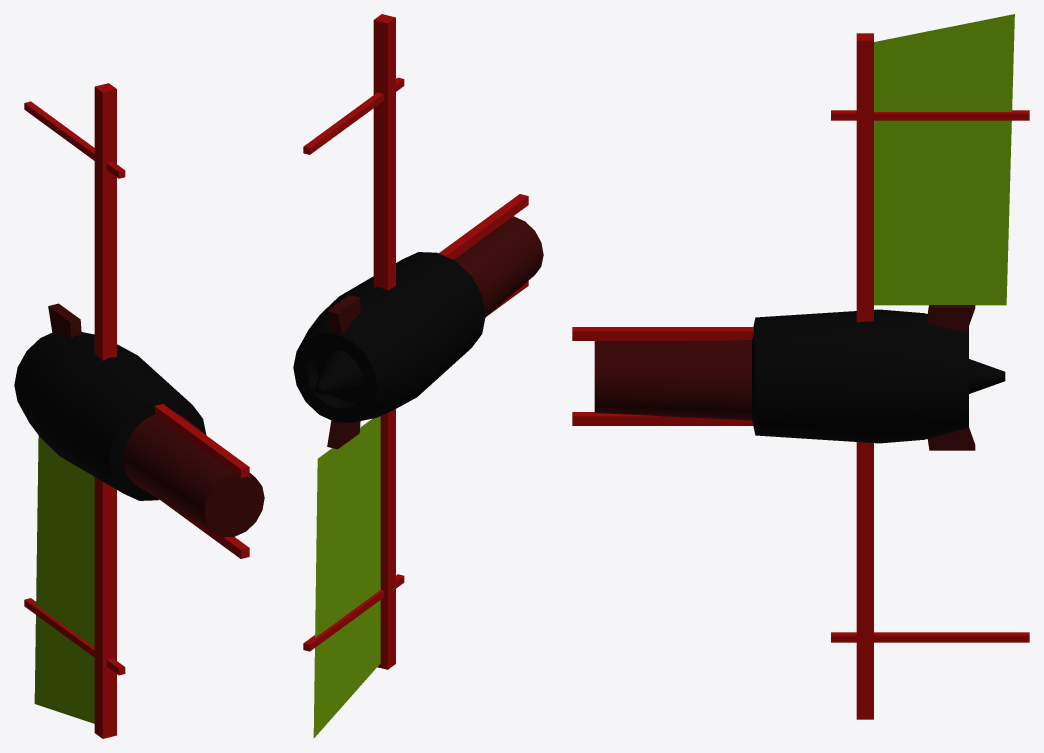
File: dual_tailfin.glb
The picture shows the model from 3 angles, left to right: view 1: azimuth 30°, elevation 25°; view 2: azimuth 150°, elevation 25°; view 3: azimuth 270°, elevation 25°; orthographic projection. The views are drawn at different scales.
Visible parts, largest first — view 1: Cylinder, Plane.001, Cube.005, Cylinder.001, Cube, Cube.004, Cube.007, Cube.003; view 2: Cylinder, Plane.001, Cube.005, Cylinder.001, Cylinder.002, Cube, Cube.004, Cube.007, Cube.003, Cube.006; view 3: Plane, Cylinder, Cylinder.001, Cube.005, Cube, Cube.007, Cube.004, Cube.003, Cube.006, Cylinder.002.
Boxes of the visible parts, x1,y1,x2,y2 form: Cylinder: (14, 332, 206, 500); Plane.001: (34, 436, 94, 723); Cube.005: (94, 83, 116, 738); Cylinder.001: (123, 413, 264, 537); Cube: (154, 404, 249, 558); Cube.004: (24, 101, 125, 178); Cube.007: (24, 598, 125, 675); Cube.003: (48, 303, 81, 337); Cylinder: (293, 252, 485, 422); Plane.001: (313, 416, 380, 738); Cube.005: (373, 14, 395, 669); Cylinder.001: (453, 216, 543, 317); Cylinder.002: (314, 347, 364, 401); Cube: (439, 194, 528, 315); Cube.004: (303, 77, 404, 154); Cube.007: (303, 574, 404, 651); Cube.003: (327, 295, 360, 334); Cube.006: (327, 420, 360, 449); Plane: (874, 14, 1014, 305); Cylinder: (752, 309, 968, 443); Cylinder.001: (594, 339, 751, 420); Cube.005: (856, 33, 873, 719); Cube: (572, 327, 753, 425); Cube.007: (831, 632, 1029, 642); Cube.004: (831, 110, 1029, 120); Cube.003: (927, 305, 975, 332); Cube.006: (927, 427, 975, 450); Cylinder.002: (969, 359, 1005, 393).
Size of the model in its own units: 3.03 by 18.05 by 10.31.
